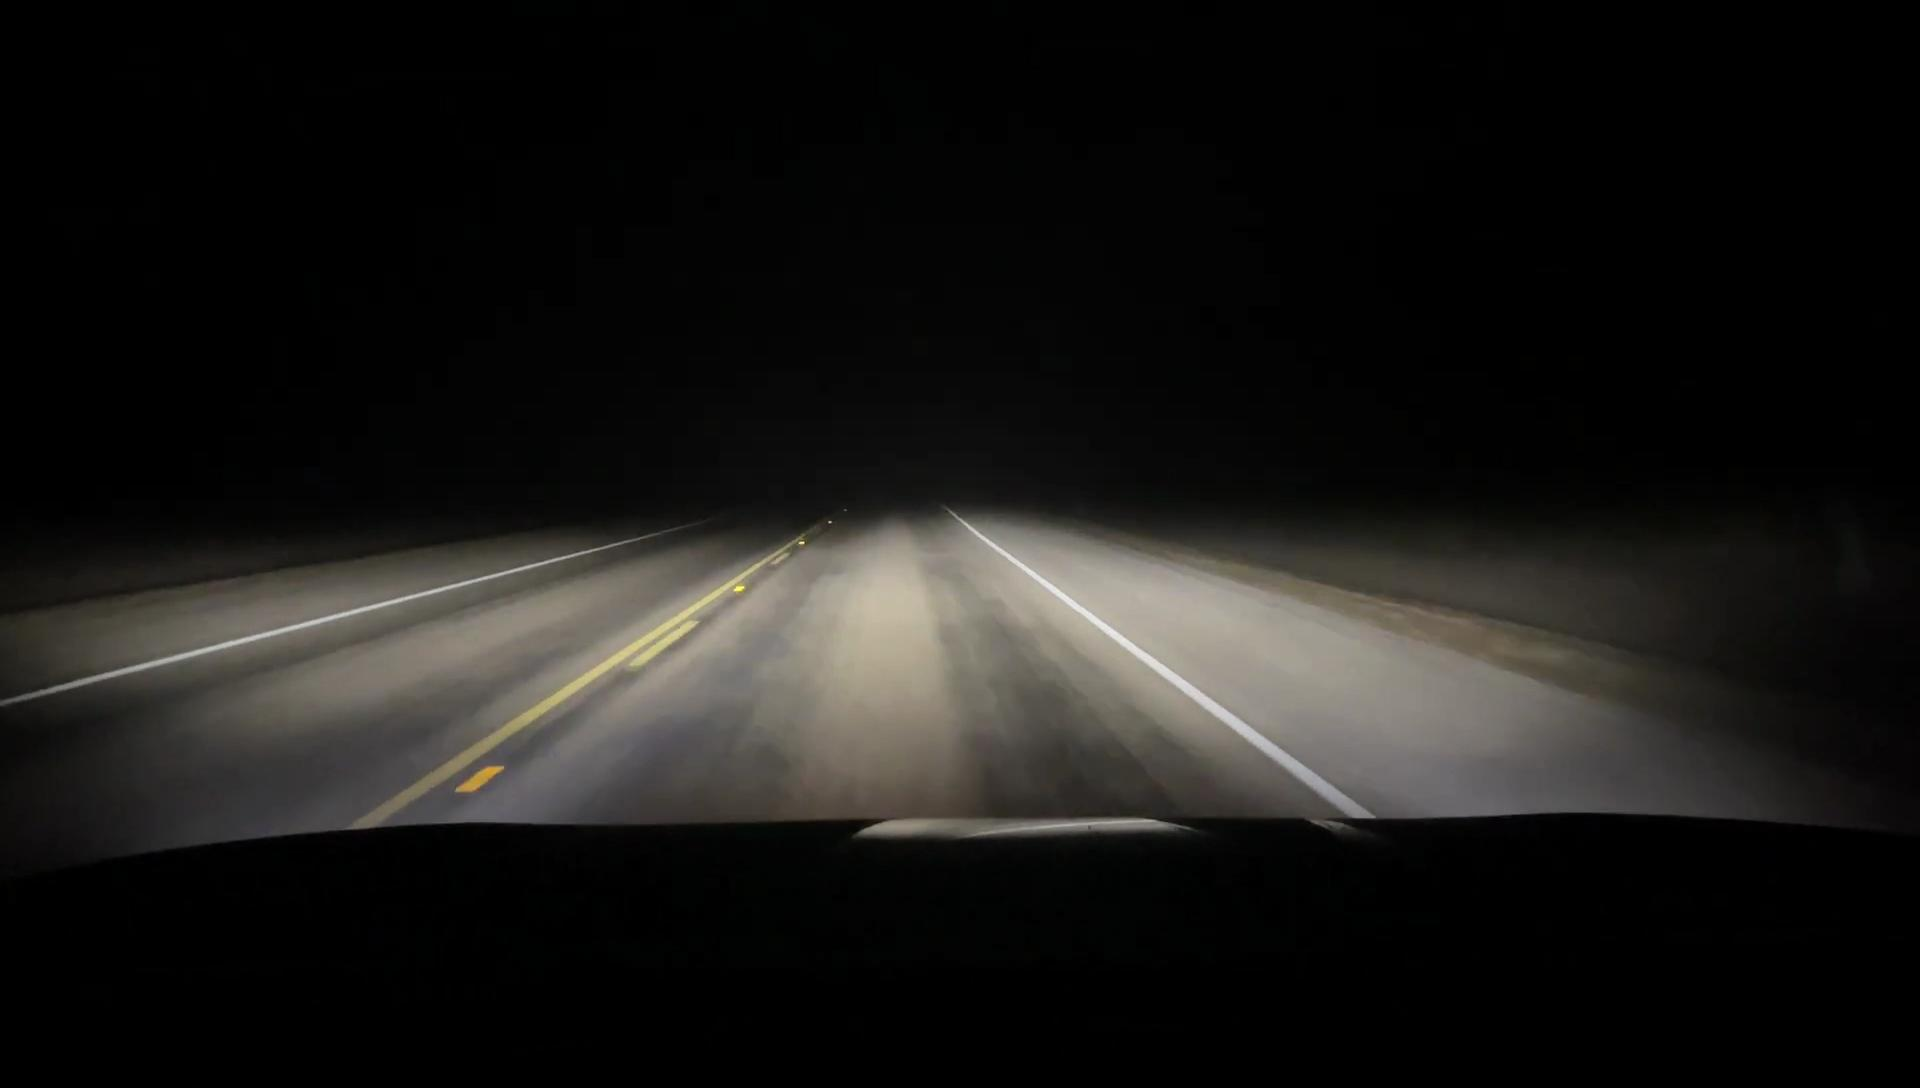road-lanes: (460, 513, 1349, 812)
